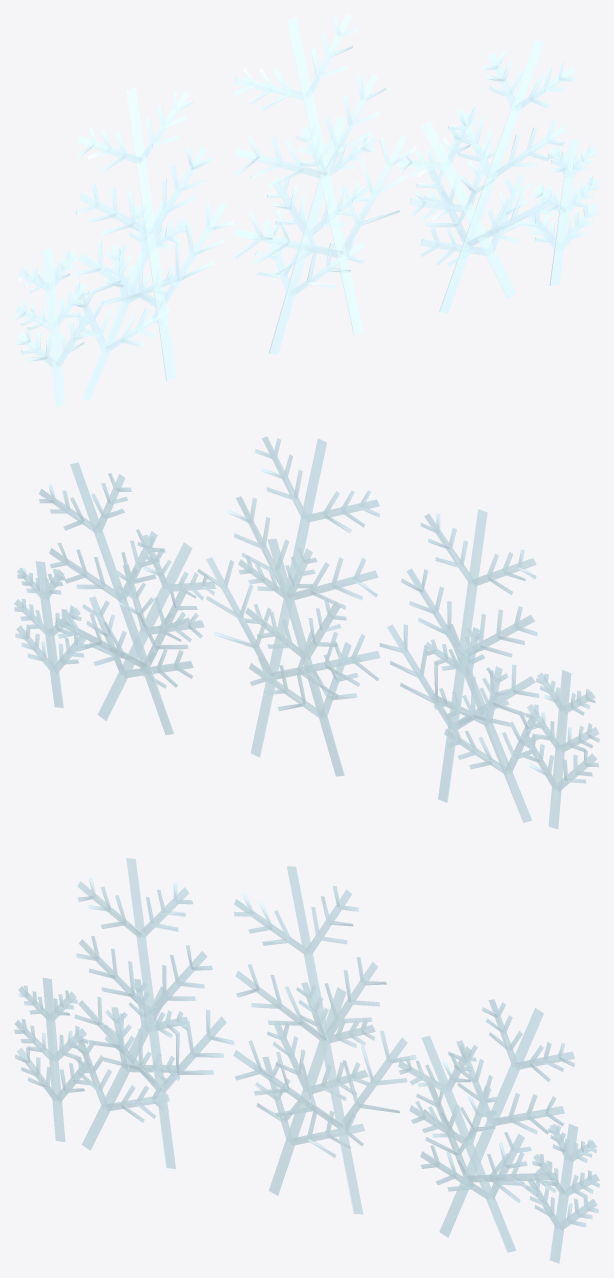
Rendered from frost_fern_glass_lod1.glb.
3 views of the same model, one above another, from view 1: azimuth 30°, elevation 25°; view 2: azimuth 150°, elevation 25°; view 3: azimuth 330°, elevation 25° (orthographic).
Visible parts, largest first — view 1: frost_fern_glass.001; view 2: frost_fern_glass.001; view 3: frost_fern_glass.001.
Part boxes in pixels (bbox=[...]): frost_fern_glass.001: bbox=[14, 14, 599, 407]; frost_fern_glass.001: bbox=[14, 436, 599, 829]; frost_fern_glass.001: bbox=[14, 858, 599, 1263].
Size of the model in its own units: 36.66 by 20 by 0.0853.
